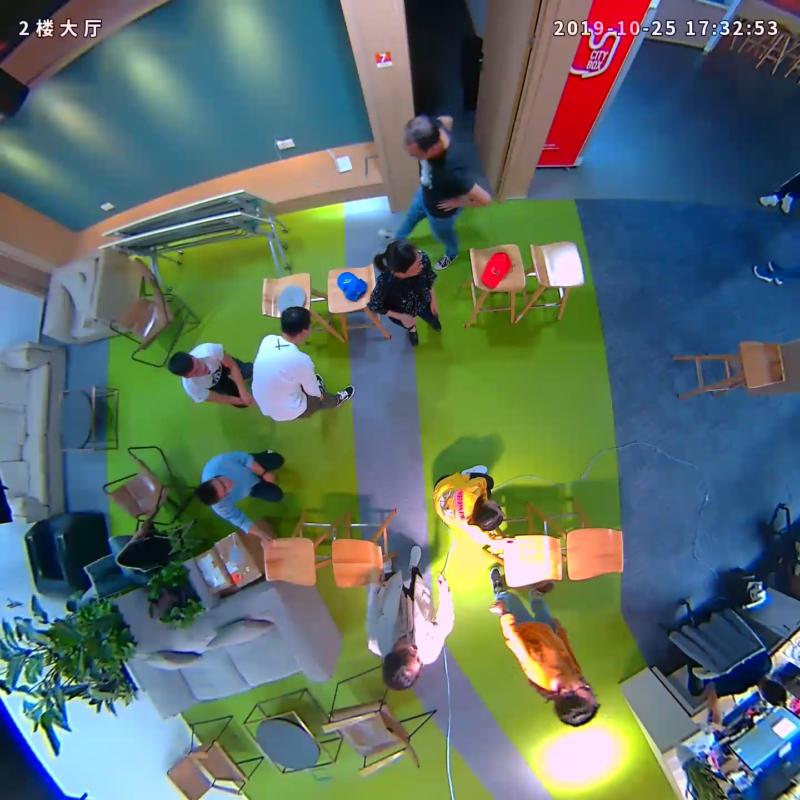head: (550, 672, 606, 734), (390, 110, 447, 168), (375, 235, 429, 286), (378, 644, 424, 697), (164, 347, 211, 387), (189, 469, 232, 512), (273, 305, 315, 348), (466, 495, 506, 535)
